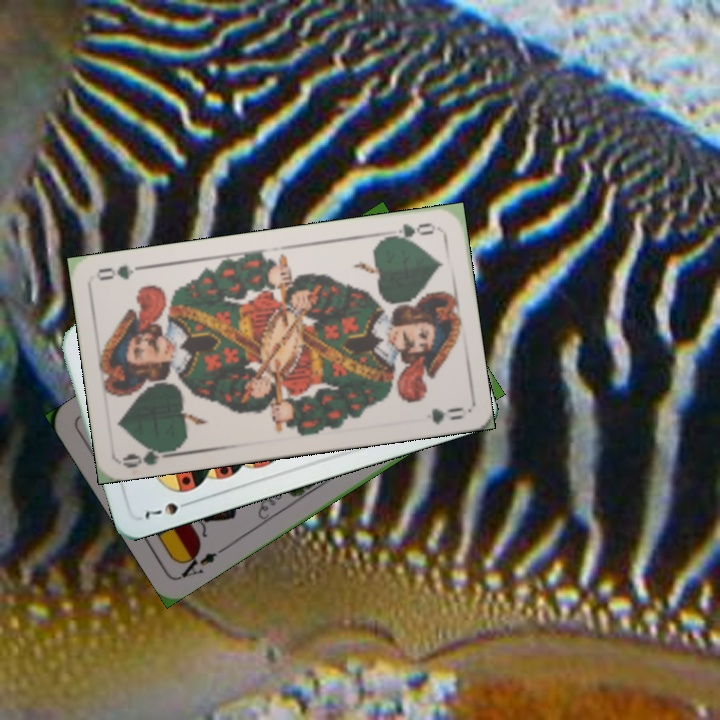EA: (175, 543, 228, 581)
GO: (120, 442, 179, 471), (382, 219, 440, 244)
S7: (139, 496, 196, 522)
